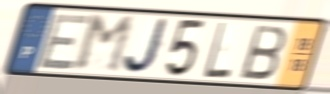5: (161, 17, 210, 79)
B: (238, 23, 289, 82)
E: (35, 12, 94, 71)
J: (122, 16, 172, 76)
L: (201, 20, 234, 80)
M: (72, 14, 137, 75)
